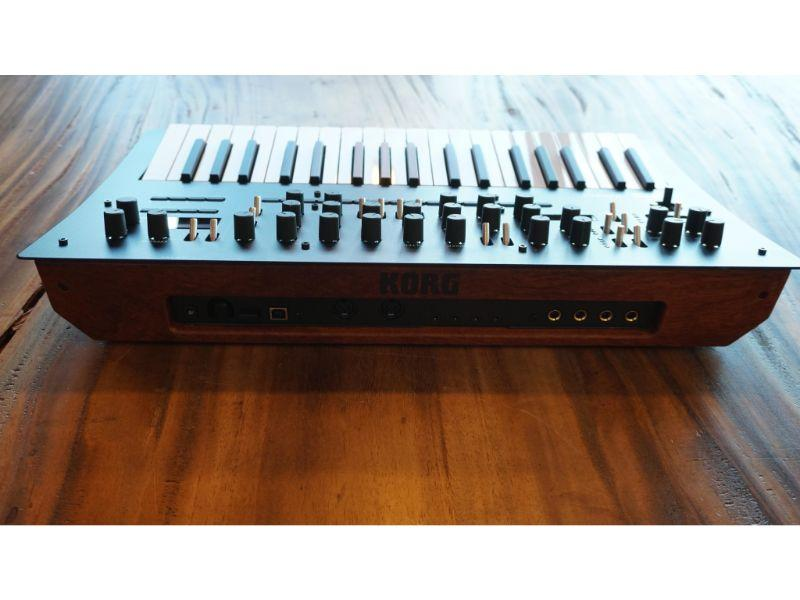synthesizer: (22, 118, 795, 367)
